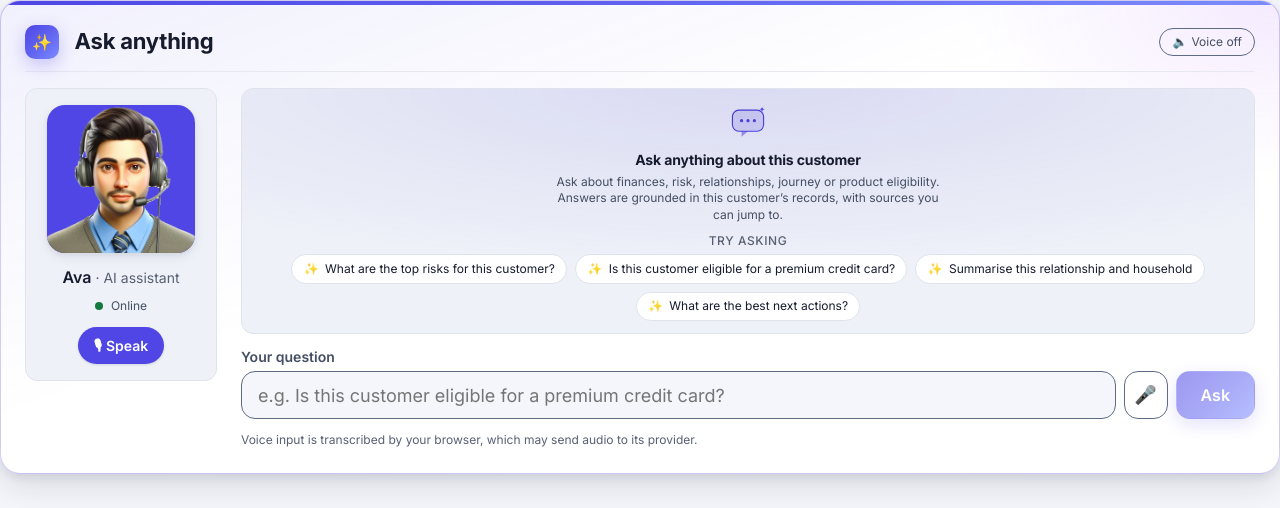
ask-anything panel (14.5) › shows a no-guidance notice when retrieval was empty
The width and height of the screenshot is (1280, 508).
Type "What is the policy on unicorns?" into the field labelled "Your question".
click(678, 395); type("What is the policy on unicorns?")  # box [241,371,1116,419]
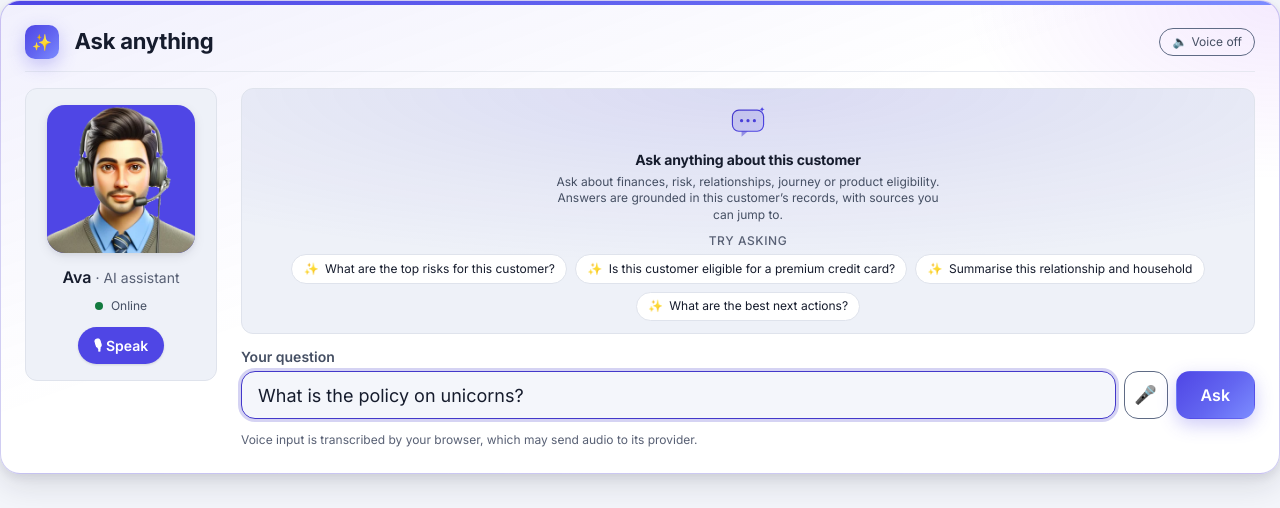
Click the button "Ask".
click(1215, 395)  # box [1176,371,1255,419]
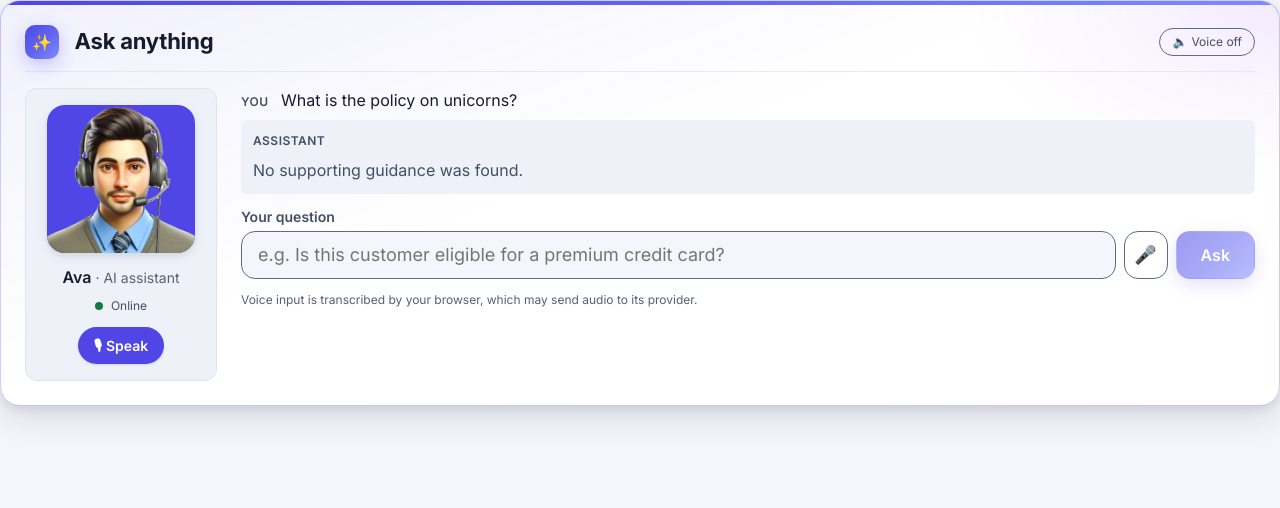
expect the text "No supporting guidance was found." is shown: met, box [253,160,523,180]
